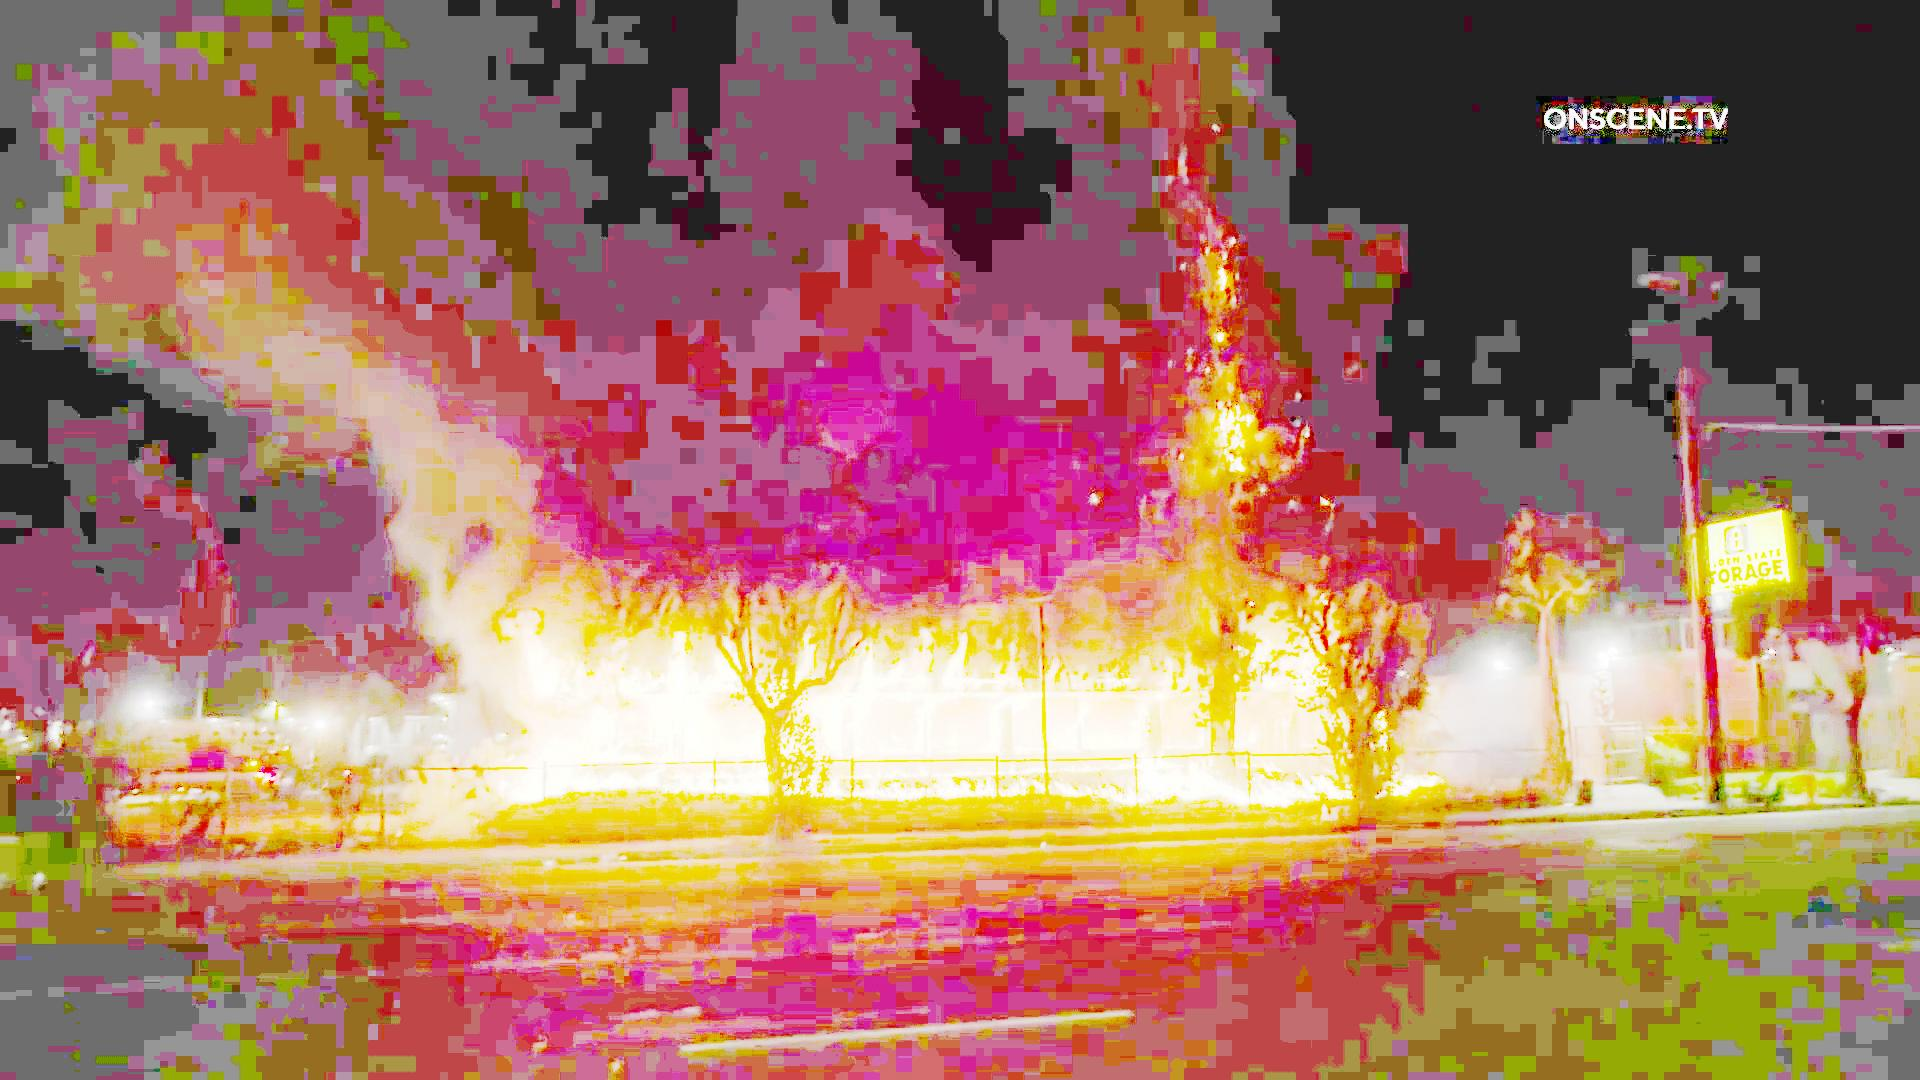fire: (518, 625, 757, 798), (839, 658, 1026, 785), (1130, 736, 1357, 815)
